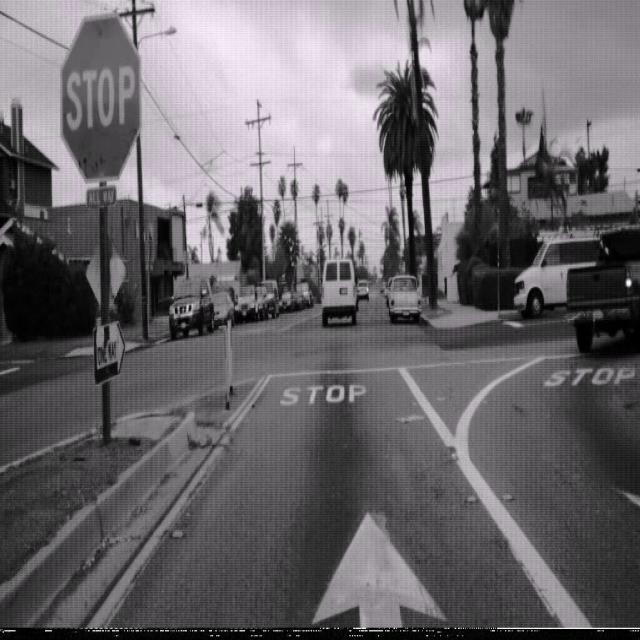stop_sign: (59, 11, 142, 184)
